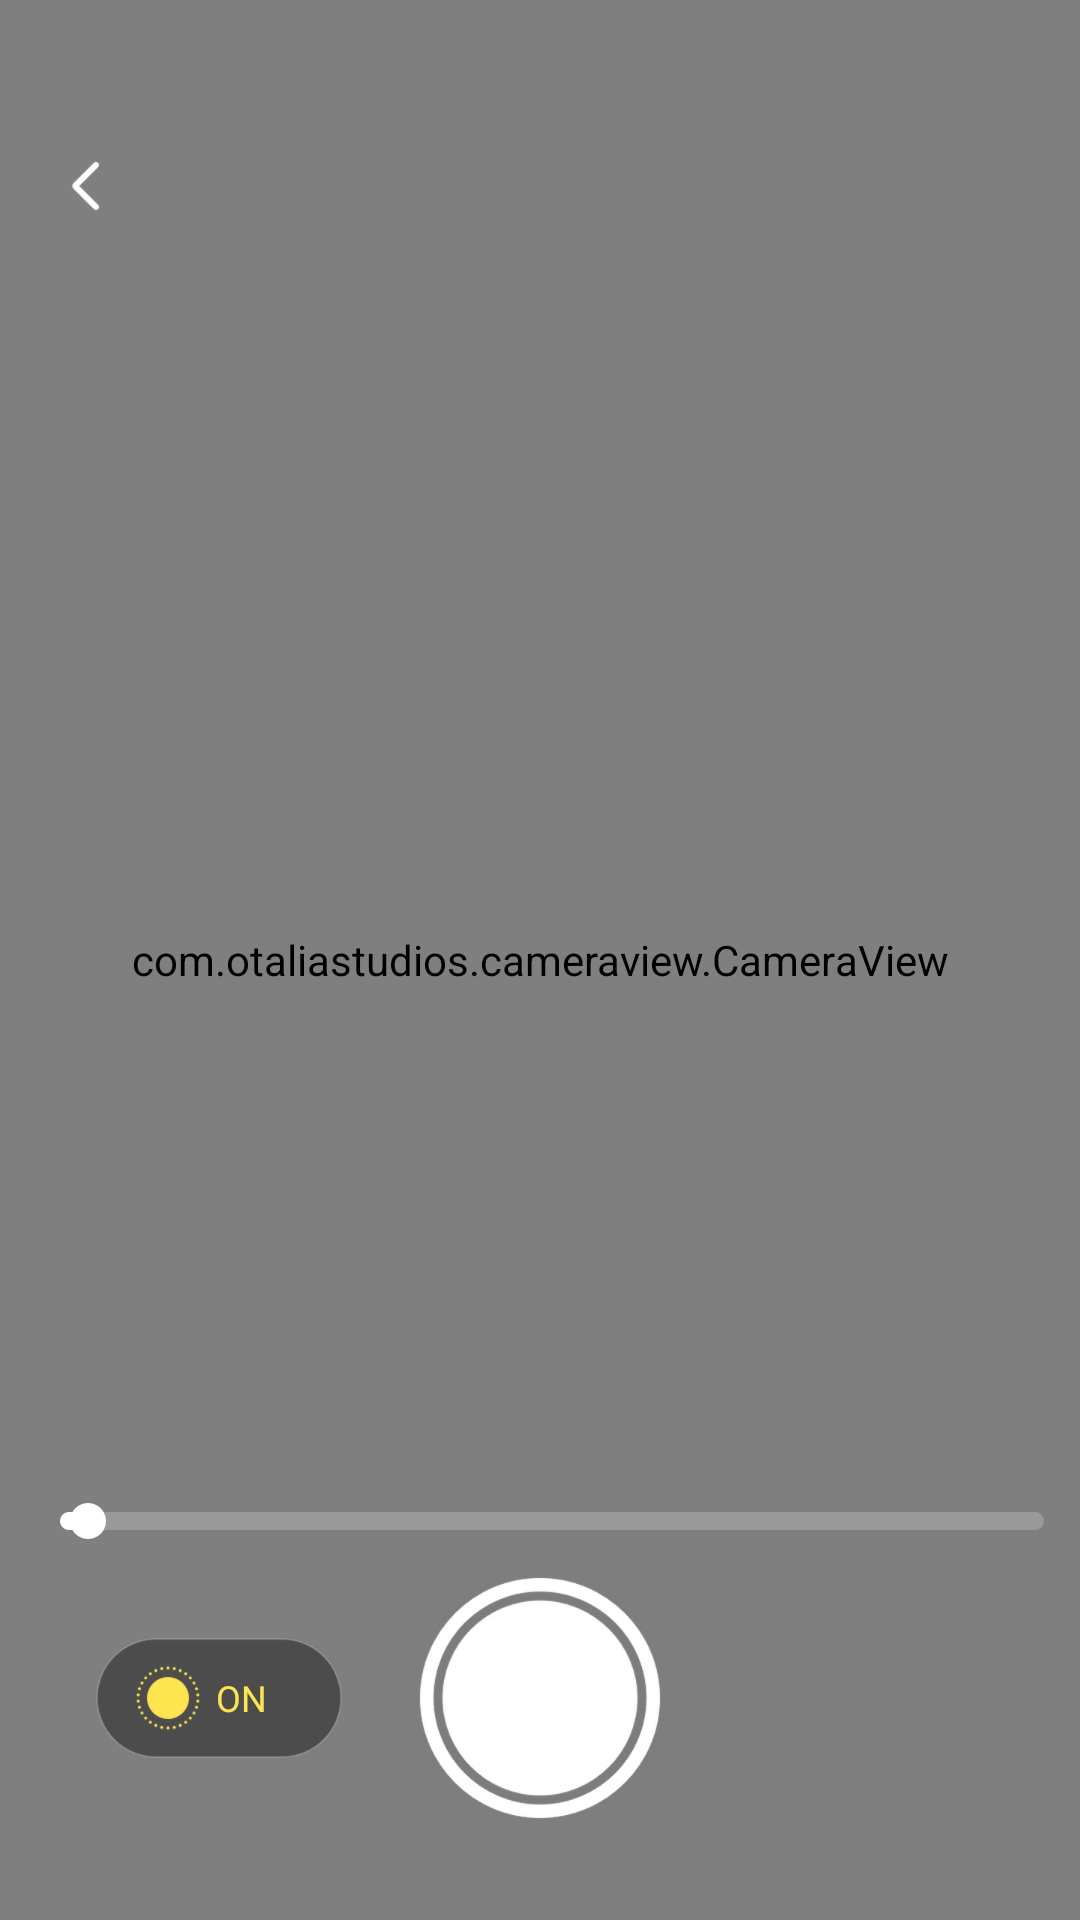

Where to tap for icons on this 1080w x 1920h app screen, as (x=x, y=y):
back: (x=85, y=186)
capture: (x=540, y=1698)
